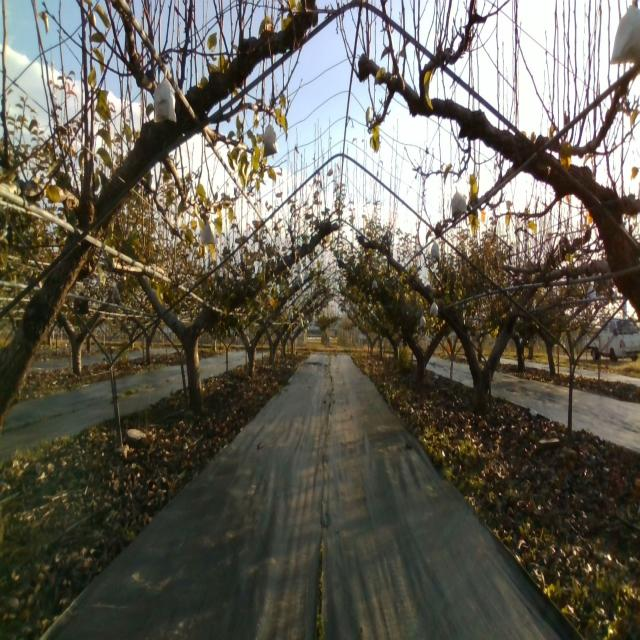pearbags: (610, 2, 640, 65), (153, 65, 177, 124), (451, 184, 468, 217), (262, 123, 278, 158), (201, 218, 217, 246)
